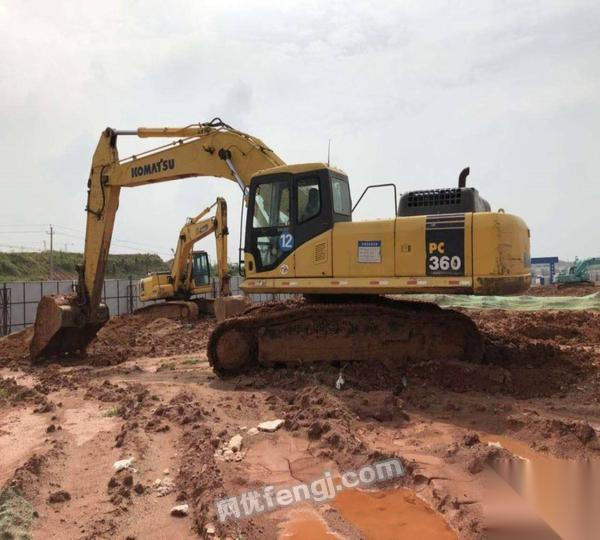excavator: (33, 123, 542, 380)
